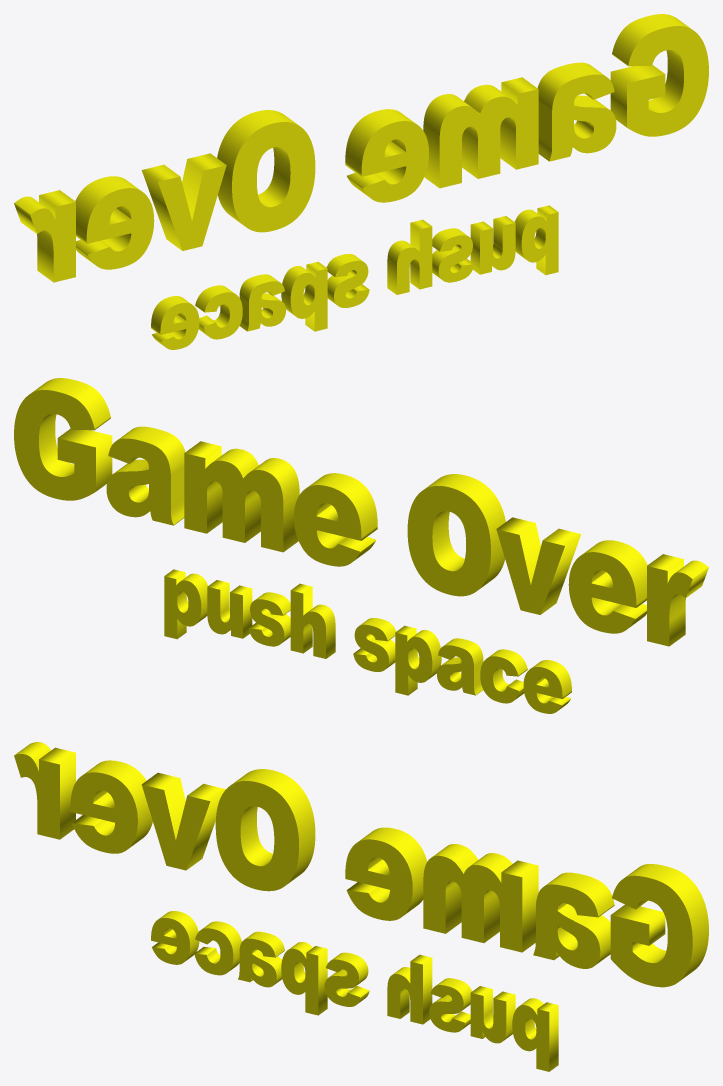
The model's file is GameOver.obj.
The picture shows the model from 3 angles, top to bottom: view 1: azimuth 30°, elevation 25°; view 2: azimuth 150°, elevation 25°; view 3: azimuth 330°, elevation 25°; orthographic projection.
Visible parts, largest first — view 1: テキスト.001; view 2: テキスト.001; view 3: テキスト.001.
Part boxes in pixels (x1,y1,x2,y2): テキスト.001: (14,14,708,349); テキスト.001: (14,378,708,713); テキスト.001: (14,742,708,1071).
Bounding box in the file's own units: 5.64 × 1.76 × 0.2338.
